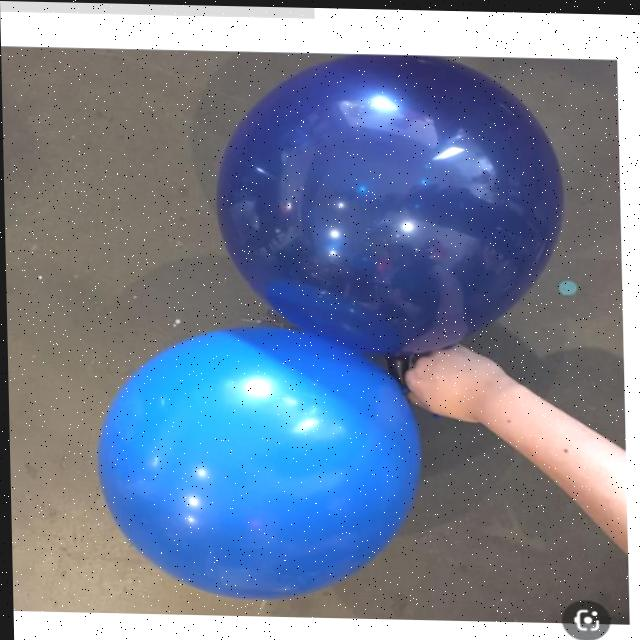balloon: (212, 50, 565, 324), (93, 331, 422, 606)
